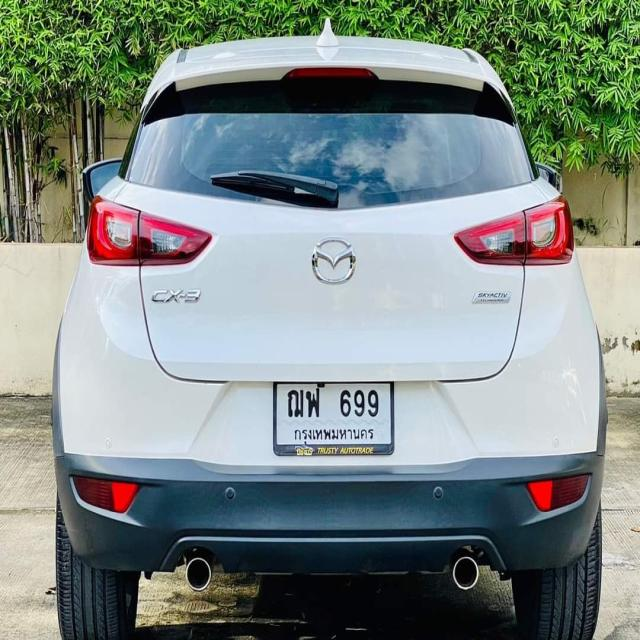license_plate: (272, 377, 394, 459)
